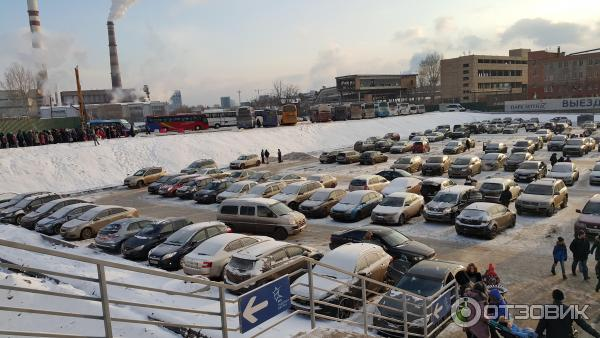Car: (289, 243, 394, 319), (372, 258, 467, 338), (223, 240, 323, 295), (328, 225, 438, 269), (183, 233, 276, 282), (148, 221, 232, 271), (217, 198, 306, 241), (121, 216, 195, 261), (60, 205, 139, 239), (423, 184, 485, 223), (455, 201, 517, 240), (20, 198, 92, 230), (95, 218, 160, 252), (515, 178, 568, 217), (35, 203, 98, 235), (0, 193, 61, 225), (371, 191, 425, 227), (329, 190, 383, 222), (270, 180, 325, 211), (298, 188, 347, 218), (574, 190, 600, 241), (479, 177, 525, 204), (146, 114, 210, 132), (0, 191, 51, 212), (158, 174, 201, 198), (379, 177, 421, 200), (194, 179, 235, 202), (419, 178, 456, 203), (216, 181, 260, 202), (176, 176, 213, 200), (124, 166, 164, 188), (238, 181, 288, 198), (148, 173, 187, 194), (448, 154, 482, 178), (546, 162, 579, 186), (513, 161, 547, 183), (90, 119, 131, 137), (348, 175, 390, 192), (375, 169, 424, 182), (203, 111, 237, 129), (503, 152, 535, 171), (422, 155, 450, 176), (181, 159, 217, 175), (390, 155, 422, 173), (562, 138, 589, 157), (481, 152, 507, 171), (230, 154, 261, 169), (194, 168, 231, 180), (237, 105, 255, 129), (307, 174, 337, 188), (277, 104, 297, 125), (310, 104, 332, 123), (223, 170, 256, 182), (358, 151, 388, 164), (243, 171, 275, 183), (265, 174, 307, 183), (511, 140, 535, 155), (336, 151, 363, 164), (547, 135, 568, 151), (483, 142, 507, 155), (320, 151, 343, 164), (442, 141, 465, 154), (390, 141, 413, 153), (525, 136, 543, 151), (589, 162, 600, 186), (331, 105, 347, 121), (354, 141, 375, 153), (534, 129, 552, 143), (411, 141, 430, 154), (346, 104, 362, 119), (263, 109, 277, 126), (451, 127, 470, 139), (361, 103, 375, 118), (375, 102, 389, 116), (427, 131, 444, 142), (553, 123, 570, 134), (375, 141, 390, 153), (437, 128, 452, 139), (255, 110, 264, 128), (397, 103, 410, 115), (387, 102, 399, 115), (487, 125, 504, 134), (446, 104, 465, 112), (583, 137, 595, 149), (502, 125, 518, 134), (409, 136, 429, 143), (383, 133, 400, 141), (410, 105, 425, 114), (462, 138, 475, 148), (543, 122, 556, 132), (550, 117, 568, 124), (380, 139, 395, 147), (526, 123, 539, 132), (490, 120, 505, 127), (409, 132, 422, 140), (424, 129, 437, 136), (366, 137, 381, 143), (435, 125, 450, 131), (585, 123, 596, 131), (453, 125, 464, 132), (511, 121, 522, 128), (470, 122, 482, 128), (135, 125, 146, 131), (583, 121, 593, 127), (503, 117, 512, 123), (529, 118, 539, 123), (484, 122, 491, 129), (464, 122, 471, 128), (594, 121, 600, 127), (481, 120, 490, 124), (493, 118, 501, 121), (598, 142, 600, 153)
